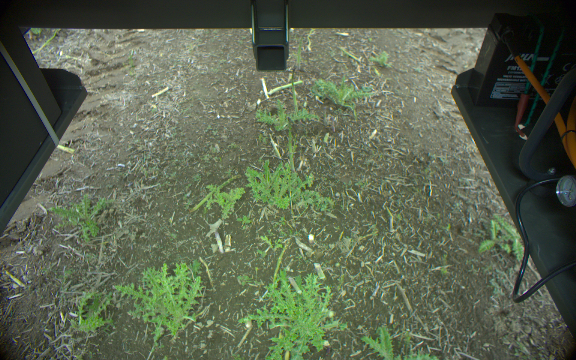aspa: (191, 173, 242, 214), (271, 238, 288, 285), (269, 78, 303, 94), (285, 117, 294, 172), (3, 268, 25, 288), (290, 65, 299, 113)
